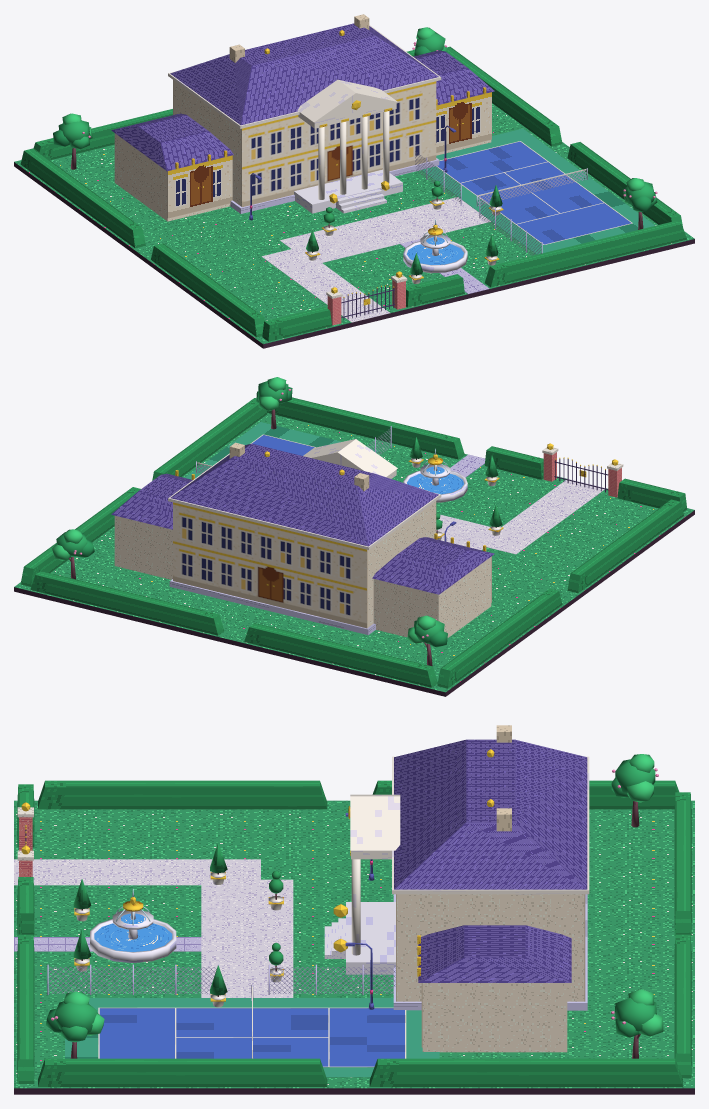
Rendered from Mansion Block A.fbx.
3 renders of one model, top to bottom at view 1: azimuth 30°, elevation 25°; view 2: azimuth 150°, elevation 25°; view 3: azimuth 270°, elevation 25°, orthographic. The views are drawn at different scales.
Visible parts, largest first — view 1: Mansion Block A mansion mesh, Mansion Block A props mesh, Mansion Block A ground; view 2: Mansion Block A mansion mesh, Mansion Block A props mesh, Mansion Block A ground; view 3: Mansion Block A props mesh, Mansion Block A ground, Mansion Block A mansion mesh.
Part boxes in pixels (bbox=[...]): Mansion Block A mansion mesh: bbox=[111, 14, 494, 221]; Mansion Block A props mesh: bbox=[20, 27, 686, 341]; Mansion Block A ground: bbox=[14, 103, 694, 348]; Mansion Block A mansion mesh: bbox=[111, 439, 494, 637]; Mansion Block A props mesh: bbox=[20, 377, 687, 688]; Mansion Block A ground: bbox=[14, 413, 694, 696]; Mansion Block A props mesh: bbox=[14, 754, 691, 1086]; Mansion Block A ground: bbox=[14, 800, 694, 1094]; Mansion Block A mansion mesh: bbox=[324, 725, 589, 1052].
Bounding box in the file's own units: 40 × 11.7 × 40.
Materials: 35 (35 with a texture image).
